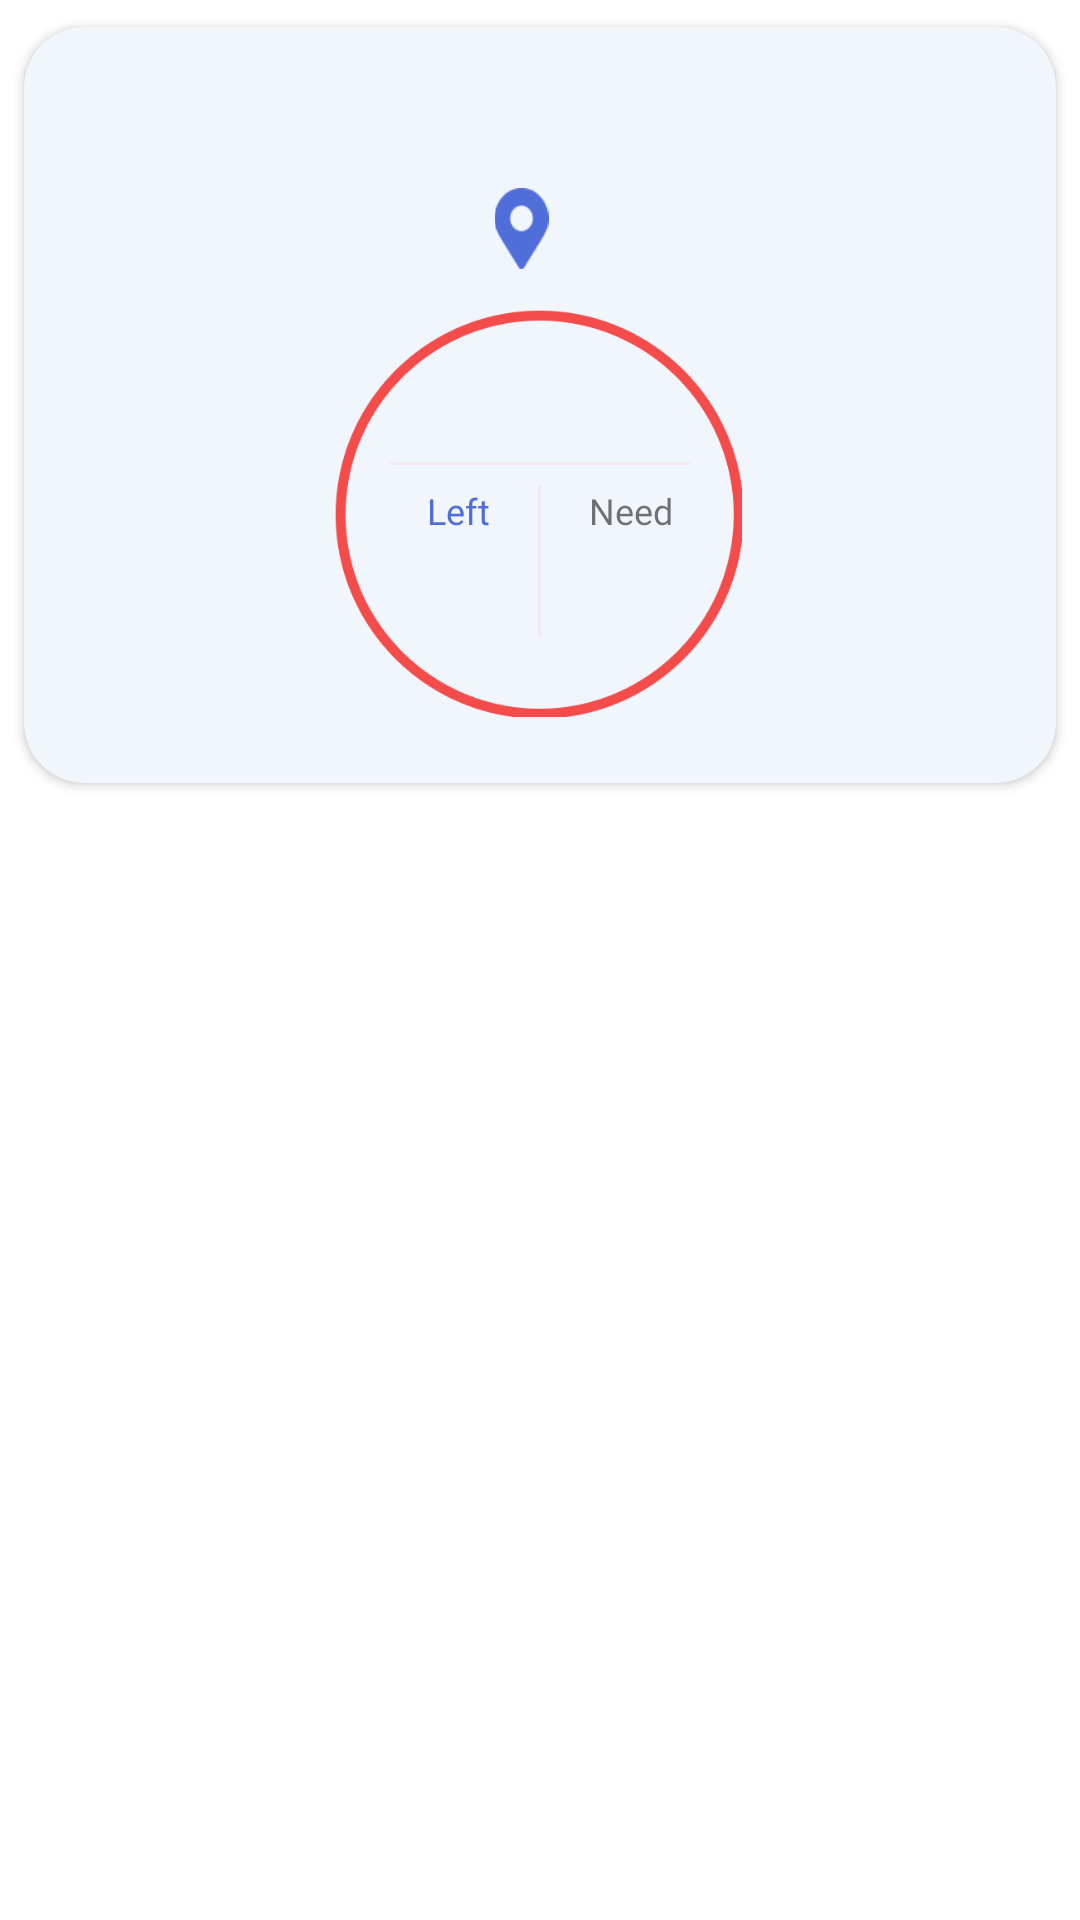

Icon click points for this 1080*1920 phone screenshot, format (x=x, y=y):
pin: (x=522, y=228)
